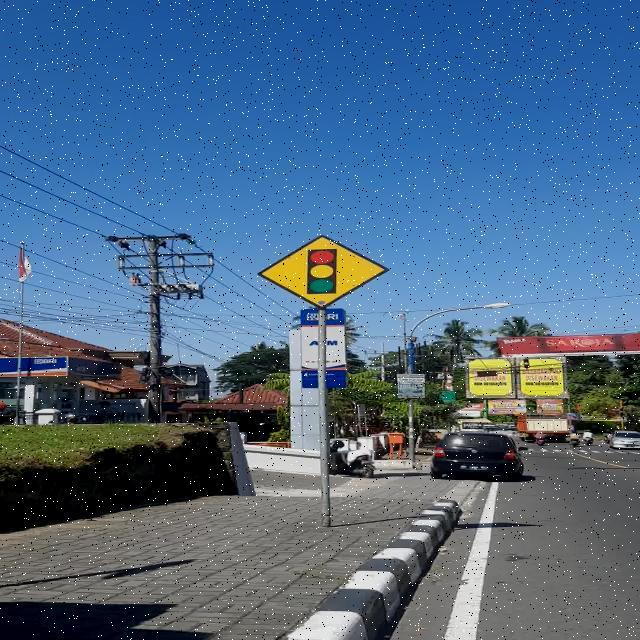Lampu Lalu Lintas: (256, 235, 391, 309)
